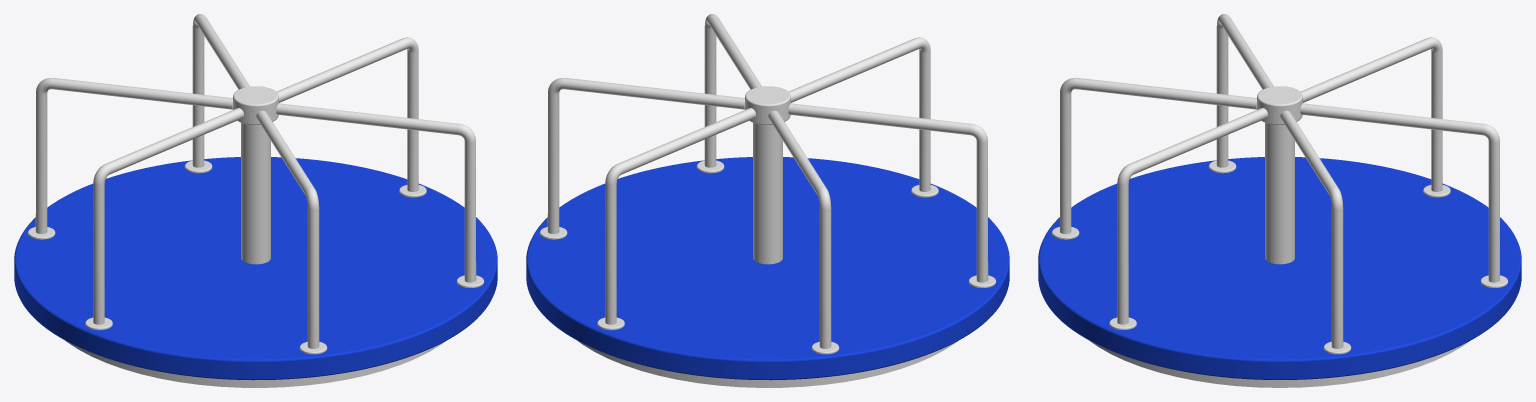
The model's file is Merry-go-round_HP.fbx.
3 renders of one model, left to right at view 1: azimuth 30°, elevation 25°; view 2: azimuth 150°, elevation 25°; view 3: azimuth 270°, elevation 25°, orthographic.
Parts seen in each view (by area): view 1: Merry-go-round.005, Plane.013, Merry-go-round-pole.002, Merry-go-round.006, Merry-go-round-pole_cap.002; view 2: Merry-go-round.005, Plane.013, Merry-go-round-pole.002, Merry-go-round.006, Merry-go-round-pole_cap.002; view 3: Merry-go-round.005, Plane.013, Merry-go-round-pole.002, Merry-go-round.006, Merry-go-round-pole_cap.002.
Part boxes in pixels (x1,y1,x2,y2): Merry-go-round.005: (14, 157, 497, 380); Plane.013: (27, 14, 484, 354); Merry-go-round-pole.002: (241, 123, 270, 264); Merry-go-round.006: (66, 341, 445, 387); Merry-go-round-pole_cap.002: (233, 86, 278, 124); Merry-go-round.005: (526, 157, 1009, 380); Plane.013: (539, 14, 996, 354); Merry-go-round-pole.002: (753, 123, 782, 264); Merry-go-round.006: (578, 341, 957, 387); Merry-go-round-pole_cap.002: (745, 86, 790, 124); Merry-go-round.005: (1038, 157, 1521, 379); Plane.013: (1051, 14, 1508, 354); Merry-go-round-pole.002: (1265, 123, 1294, 264); Merry-go-round.006: (1089, 340, 1470, 387); Merry-go-round-pole_cap.002: (1257, 86, 1302, 124).
Size of the model in its own units: 210 by 96 by 210.
